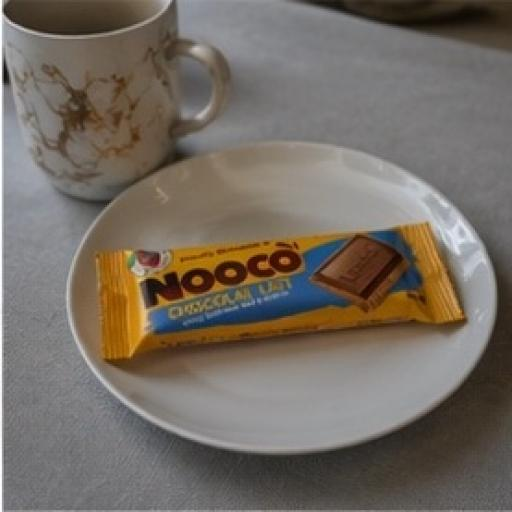nooco: (87, 209, 478, 372)
